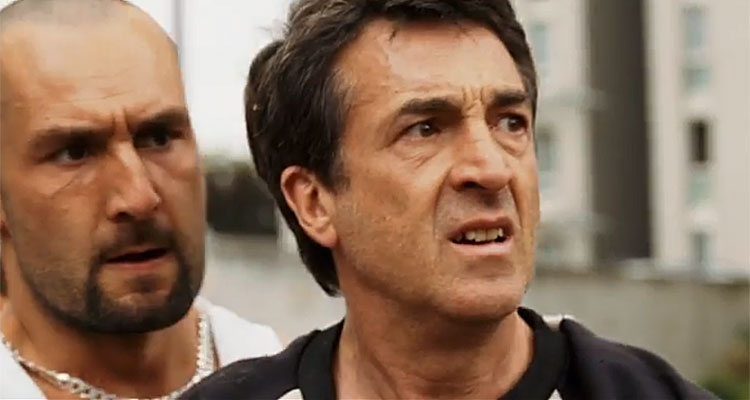without_mask: (301, 20, 553, 328), (22, 51, 218, 333)
